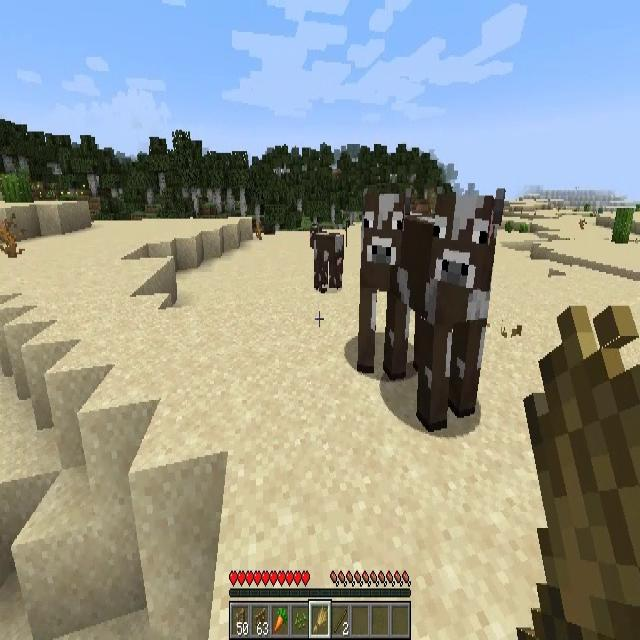cow: (406, 186, 504, 424), (360, 192, 408, 381), (310, 224, 346, 288)
